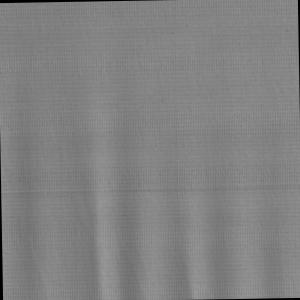Wrinkle: (13, 114, 300, 300)
